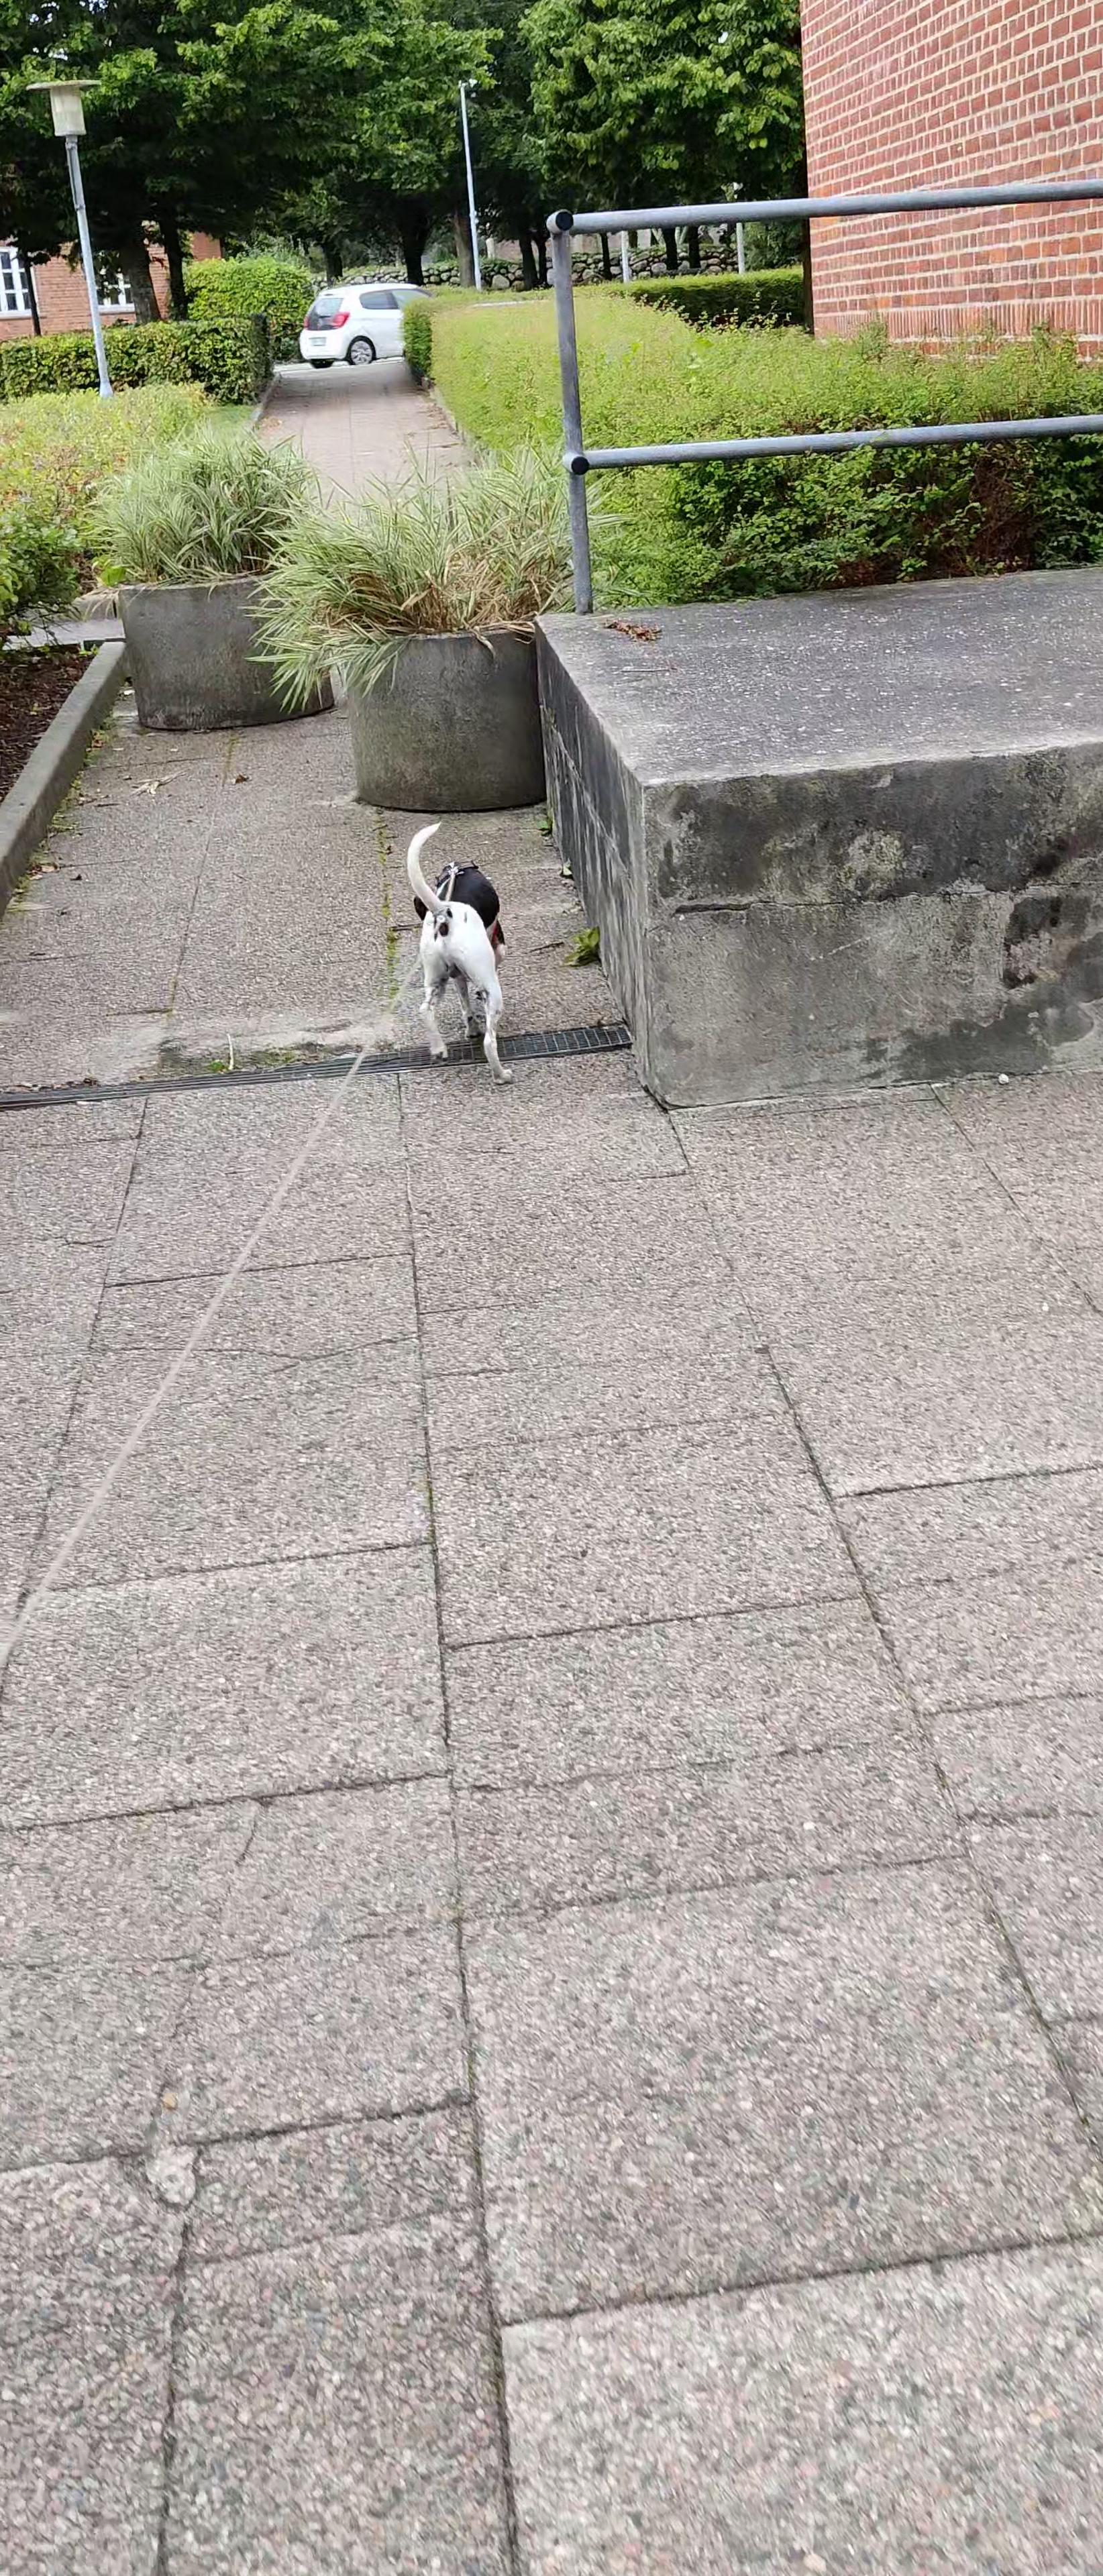Dog: (395, 812, 519, 1088)
